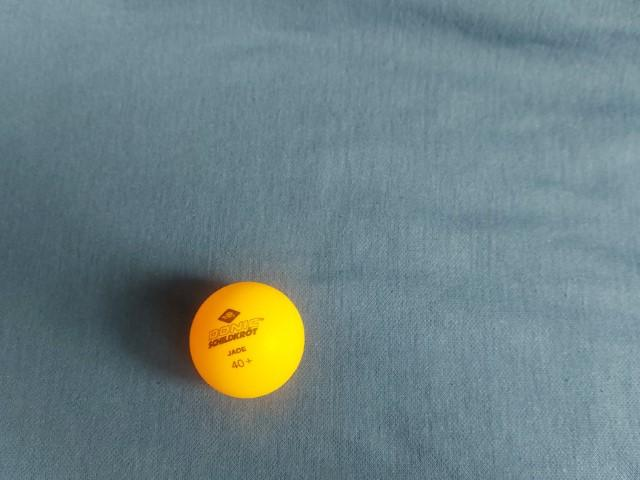oball: (329, 77, 456, 204)
